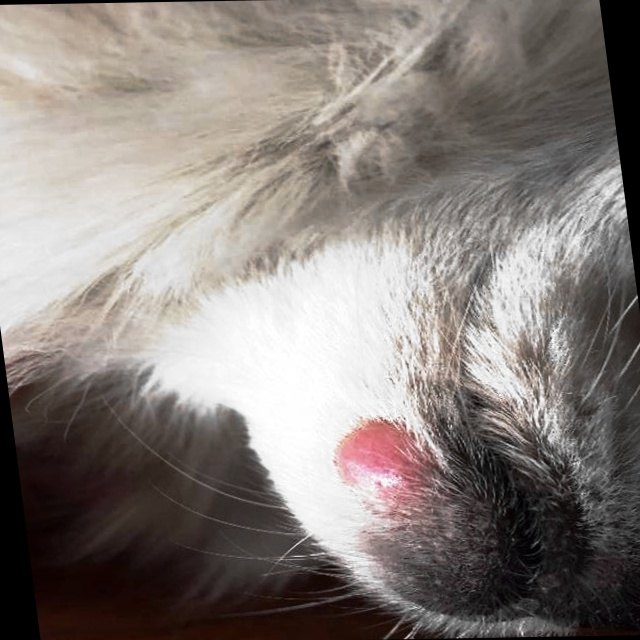lump_and_bump: (328, 416, 446, 509)
